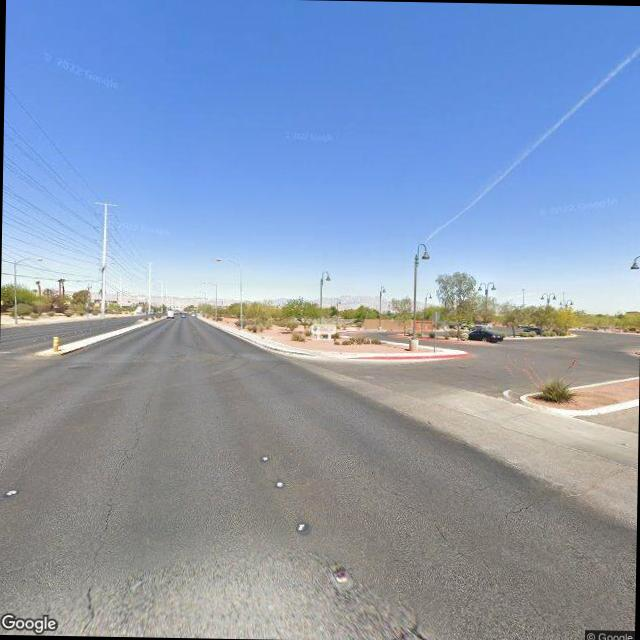crack: (95, 395, 150, 548)
